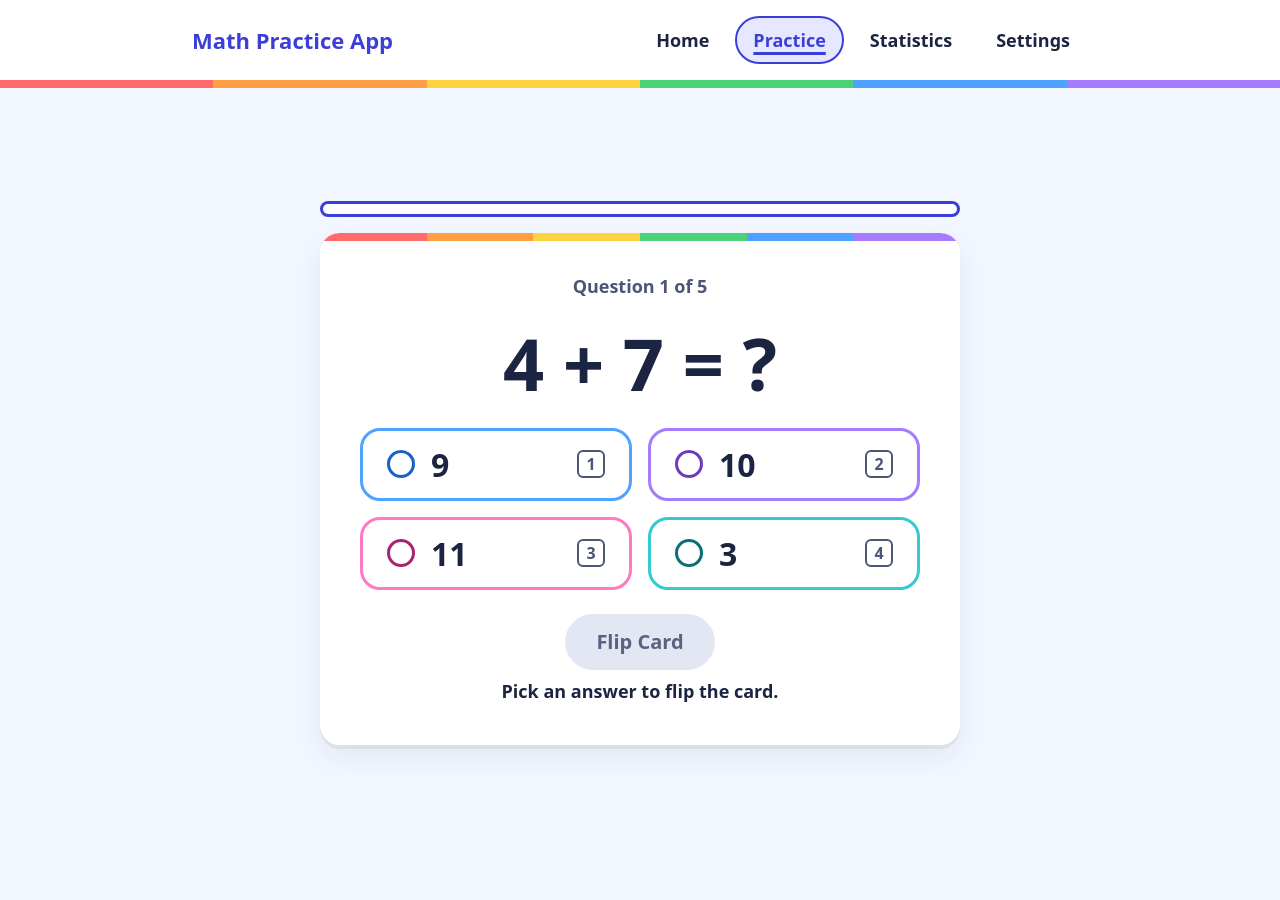
Test: PracticePage › recording results › counts "I Got It Right" and moves to the next question
The width and height of the screenshot is (1280, 900).
Click the button "9 1".
click(401, 464)  # box [360, 428, 632, 501]
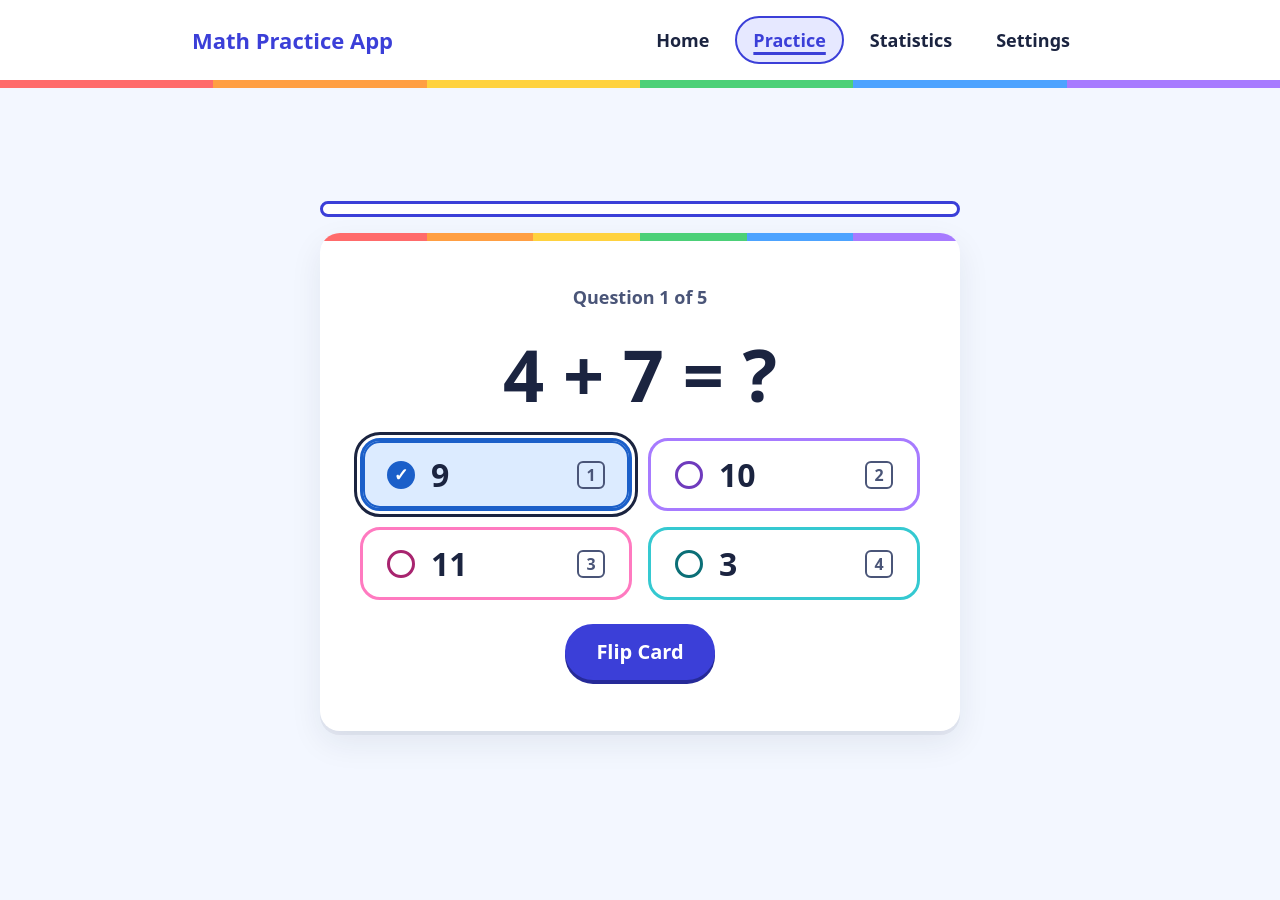
Click the button "Flip Card".
click(640, 652)  # box [565, 624, 715, 680]
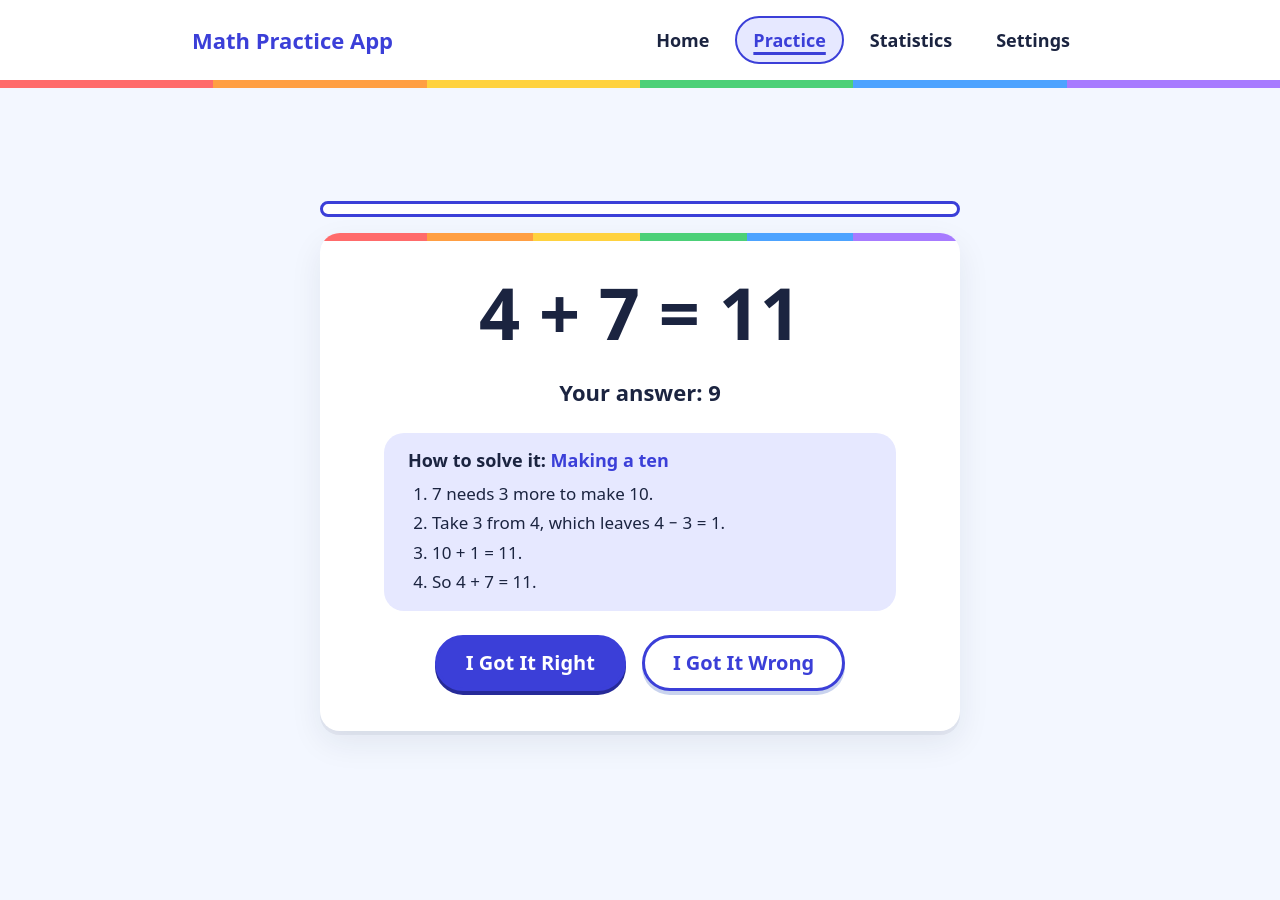
Click the button "I Got It Right".
click(530, 663)  # box [435, 635, 626, 691]
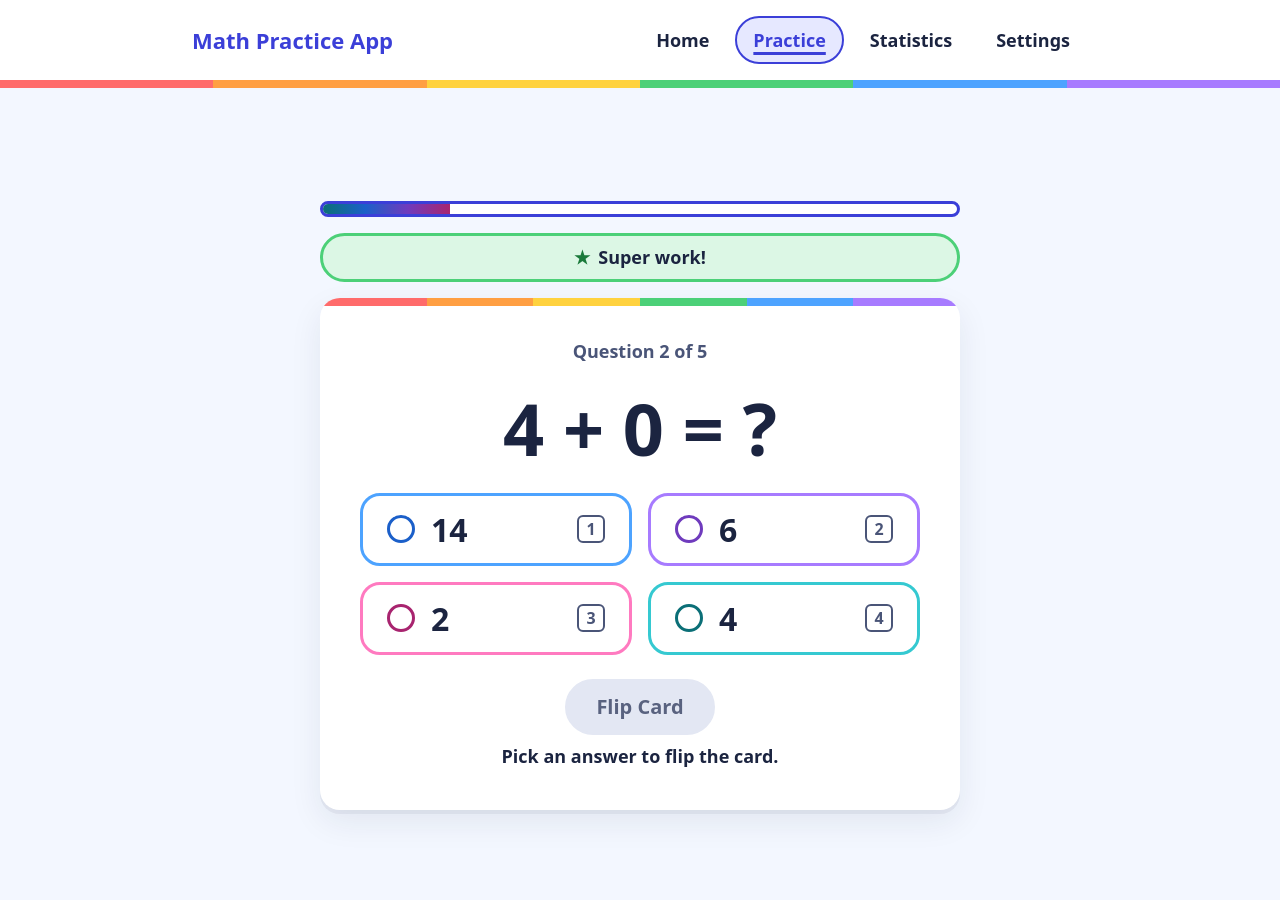
Now the text "Question 2 of 5" is shown, box [573, 338, 707, 365]
